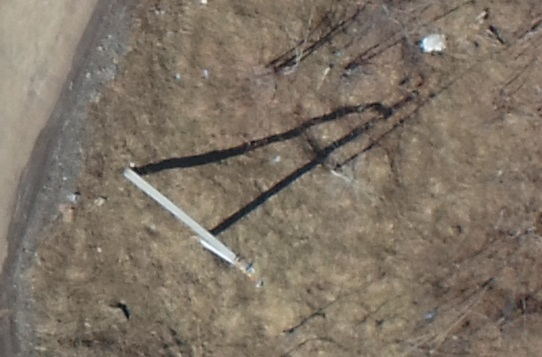opora: (123, 153, 272, 289)
